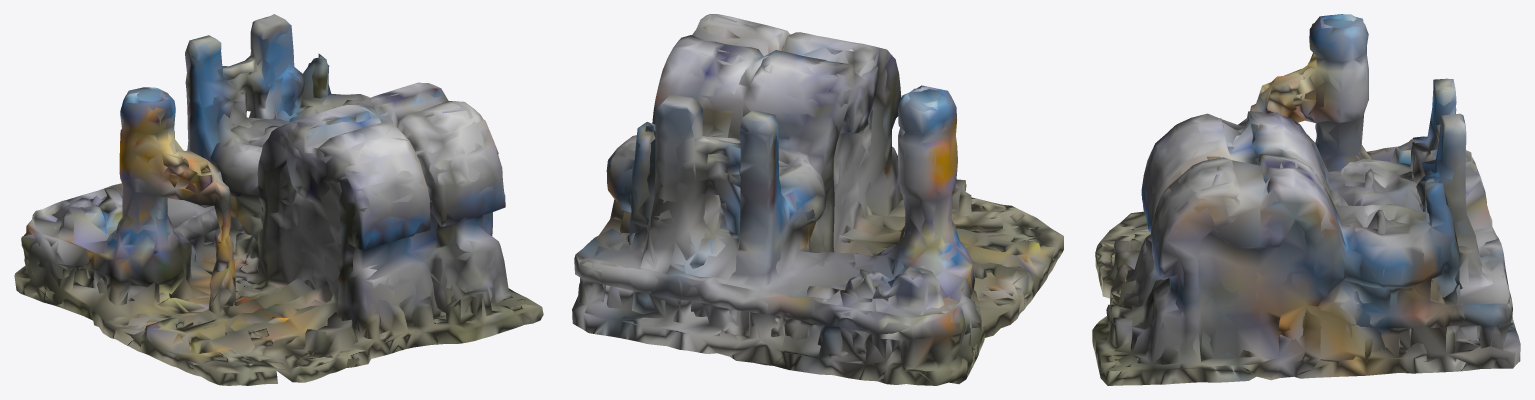
The model's file is allied_conyard.glb.
The picture shows the model from 3 angles, left to right: view 1: azimuth 30°, elevation 25°; view 2: azimuth 150°, elevation 25°; view 3: azimuth 270°, elevation 25°; orthographic projection. The views are drawn at different scales.
Parts seen in each view (by area): view 1: allied_conyard; view 2: allied_conyard; view 3: allied_conyard.
Part boxes in pixels (box(x1,y1,x2,y2)): allied_conyard: box(14, 14, 543, 385); allied_conyard: box(572, 14, 1063, 385); allied_conyard: box(1092, 14, 1520, 385).
Size of the model in its own units: 2.18 by 1.23 by 2.13.
